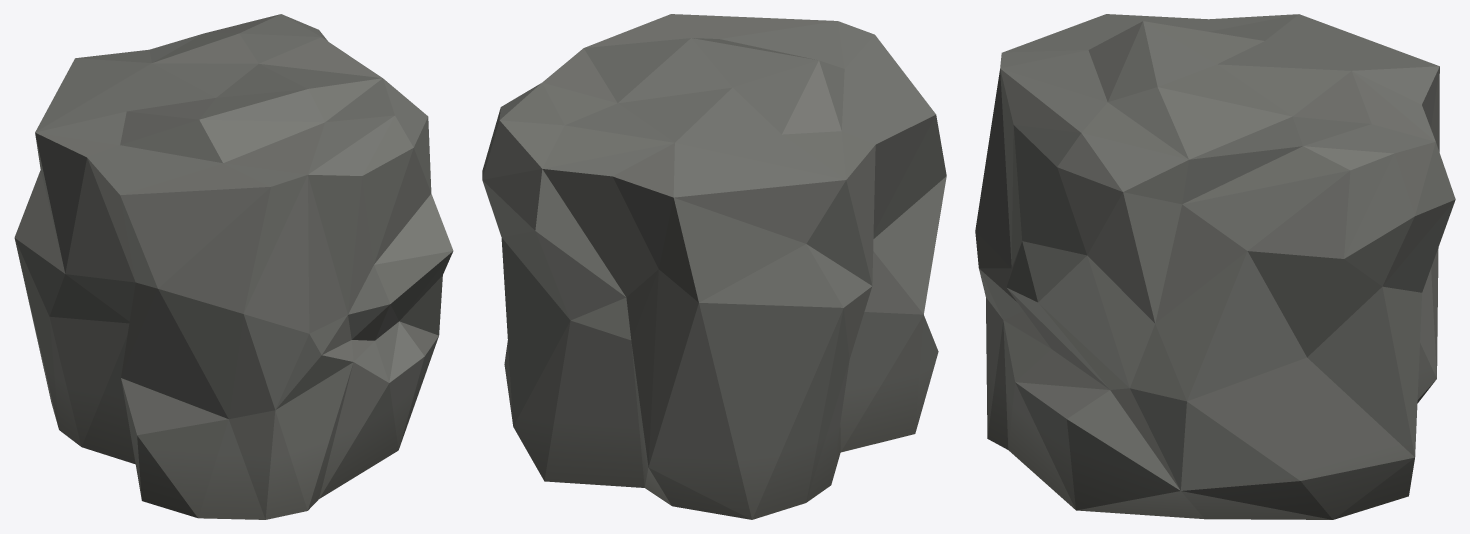
The model's file is um_rock007.FBX.
3 renders of one model, left to right at view 1: azimuth 30°, elevation 25°; view 2: azimuth 150°, elevation 25°; view 3: azimuth 270°, elevation 25°, orthographic. The views are drawn at different scales.
Visible parts, largest first — view 1: um_rock002; view 2: um_rock002; view 3: um_rock002.
Boxes of the visible parts, x1,y1,x2,y2 form: um_rock002: [14, 14, 453, 519]; um_rock002: [482, 14, 946, 519]; um_rock002: [975, 14, 1455, 519].
Bounding box in the file's own units: 5.9 × 5.43 × 5.97.
